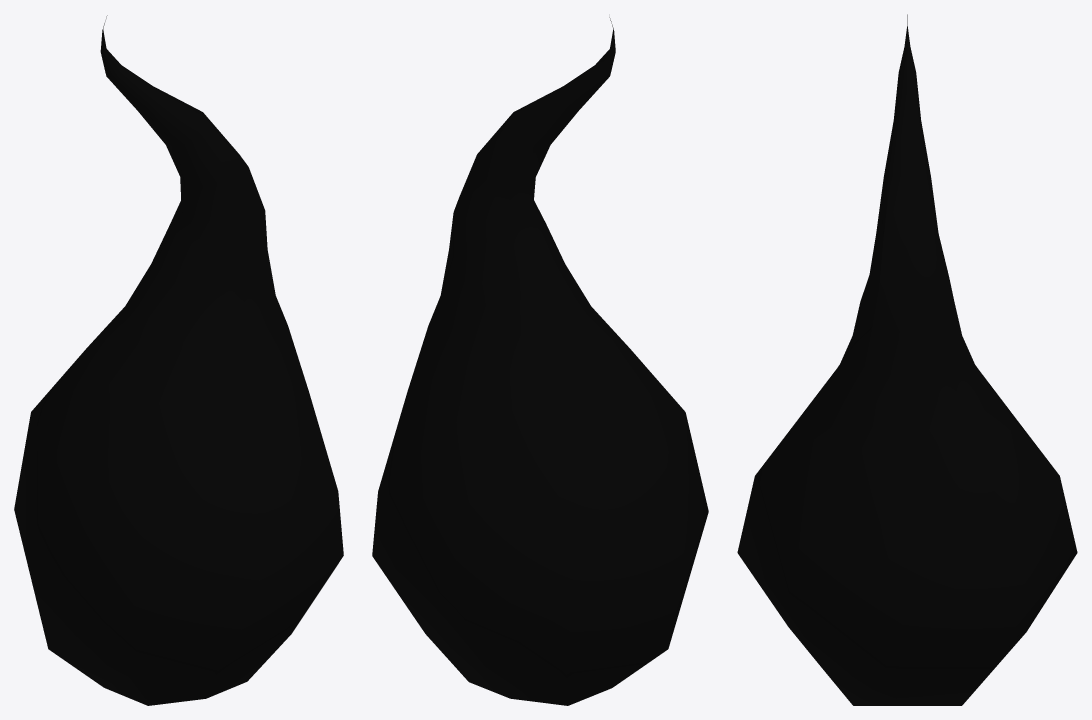
Rendered from FunkyFloorlight_Off.glb.
3 views of the same model, side by side, from view 1: azimuth 30°, elevation 25°; view 2: azimuth 150°, elevation 25°; view 3: azimuth 270°, elevation 25° (orthographic). The views are drawn at different scales.
Visible parts, largest first — view 1: funkyFloorLight_On; view 2: funkyFloorLight_On; view 3: funkyFloorLight_On.
Boxes of the visible parts, x1,y1,x2,y2 form: funkyFloorLight_On: (14,15,343,705); funkyFloorLight_On: (372,17,708,705); funkyFloorLight_On: (737,14,1077,705).
Size of what is drawn, in the model's own units: 0.855 by 1.92 by 0.9247.
Materials: 1 (1 with a texture image).
